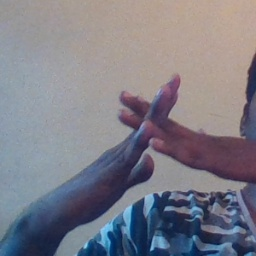W: (101, 68, 205, 214)
